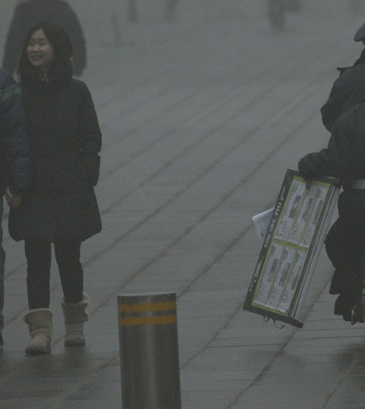person: (14, 24, 104, 356), (297, 104, 365, 327), (1, 67, 28, 357), (4, 1, 90, 80), (320, 23, 365, 134)
